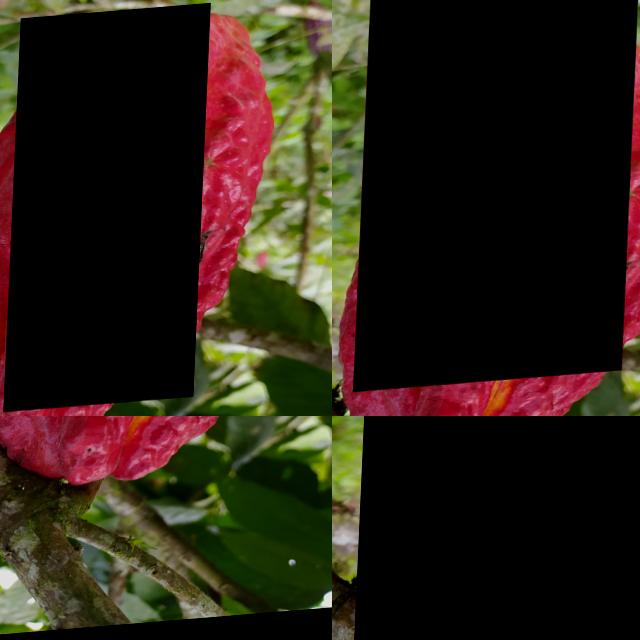Fitoftora: (8, 10, 211, 415)
Sana: (356, 0, 639, 394), (357, 416, 640, 640)
